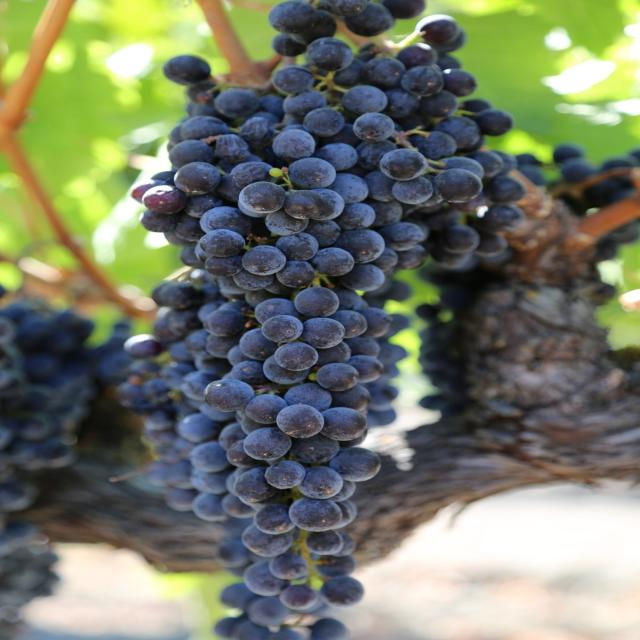grape: (108, 0, 525, 639)
